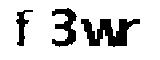3: (47, 8, 80, 50)
f: (12, 5, 37, 49)
r: (122, 15, 143, 46)
w: (80, 16, 120, 48)
